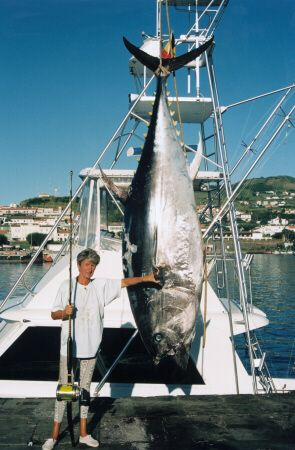Bluefina Tuna: (119, 35, 213, 371)
